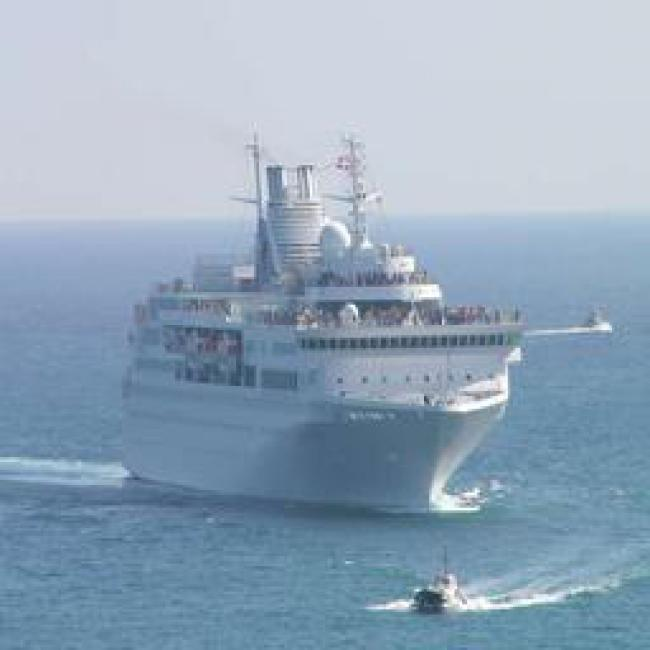Ship: (96, 248, 544, 528)
